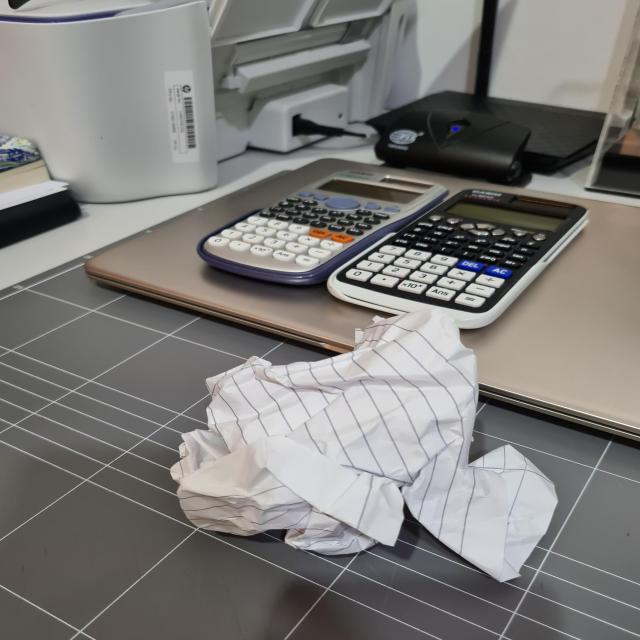kertas: (184, 316, 538, 571)
